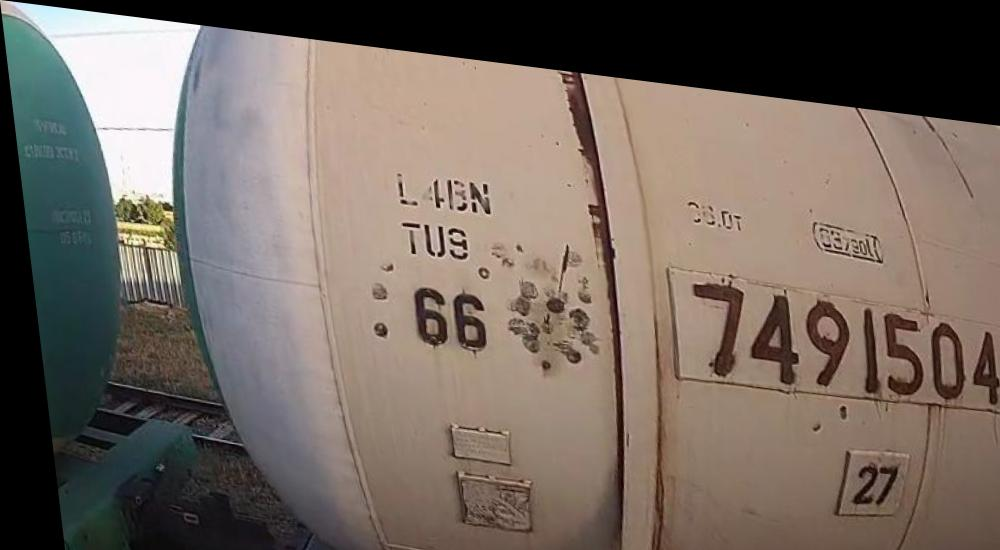Wagon-number: (680, 253, 1000, 394)
